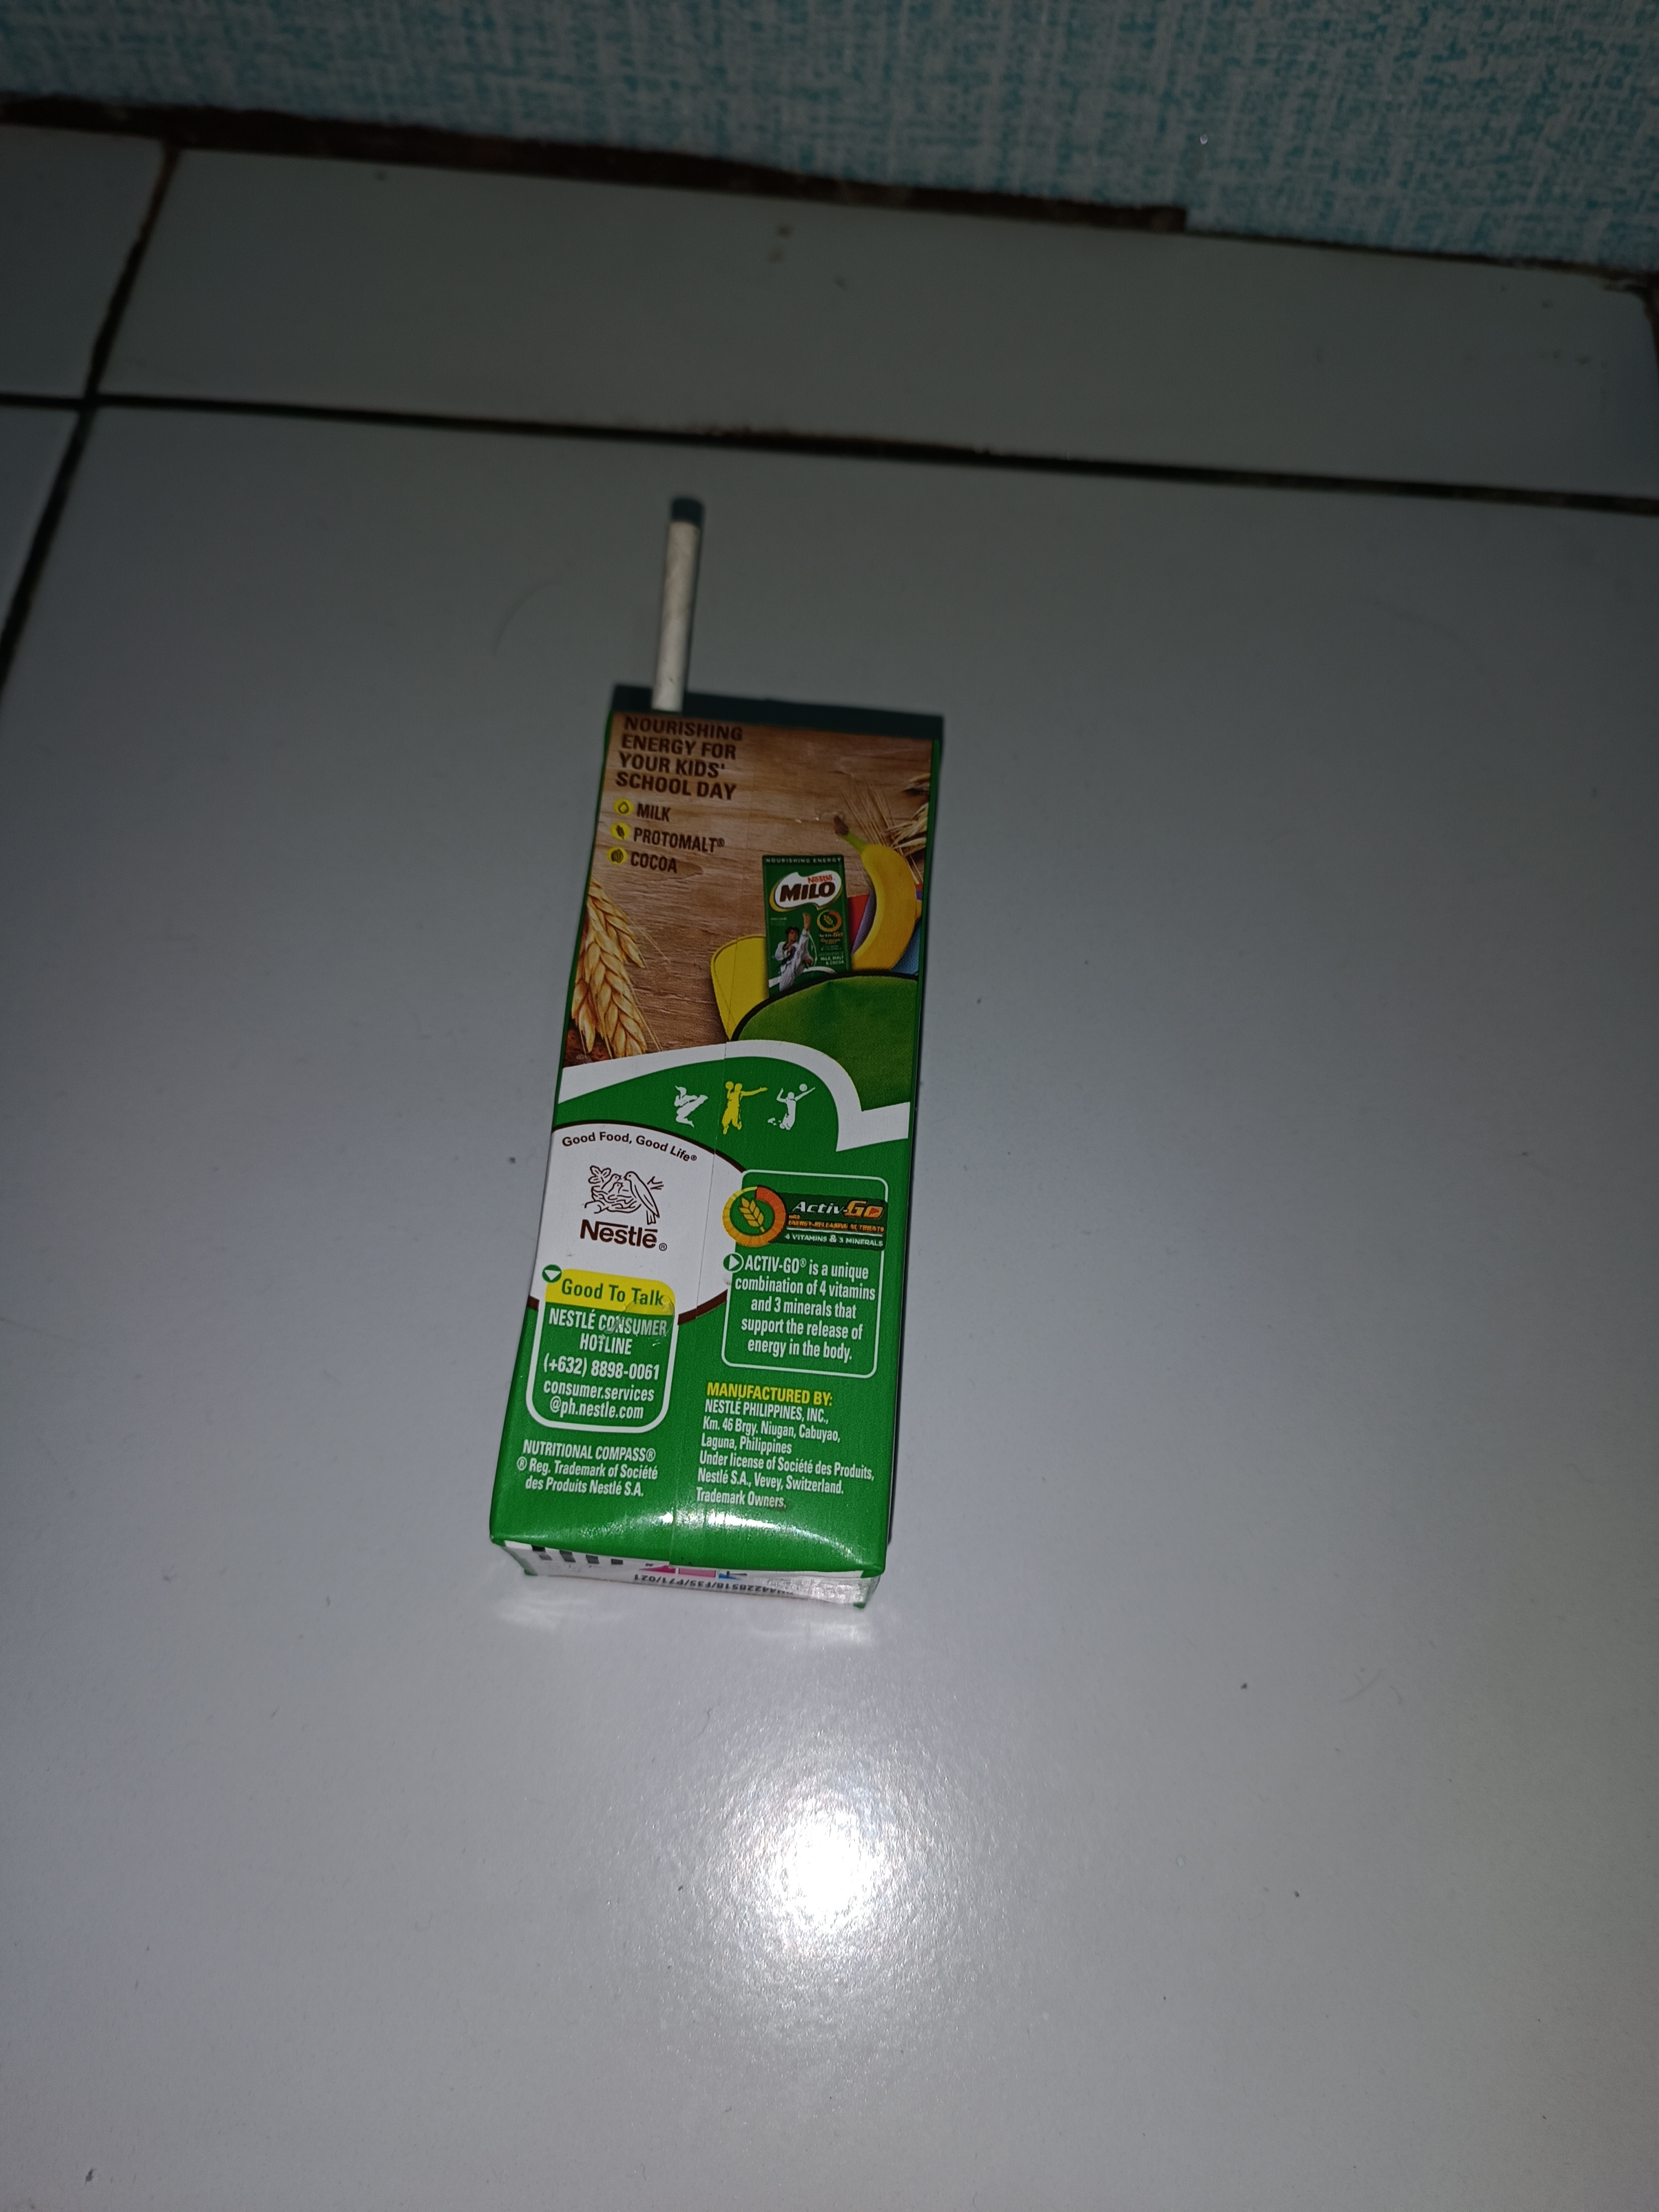Juice Box: (453, 469, 943, 1700)
